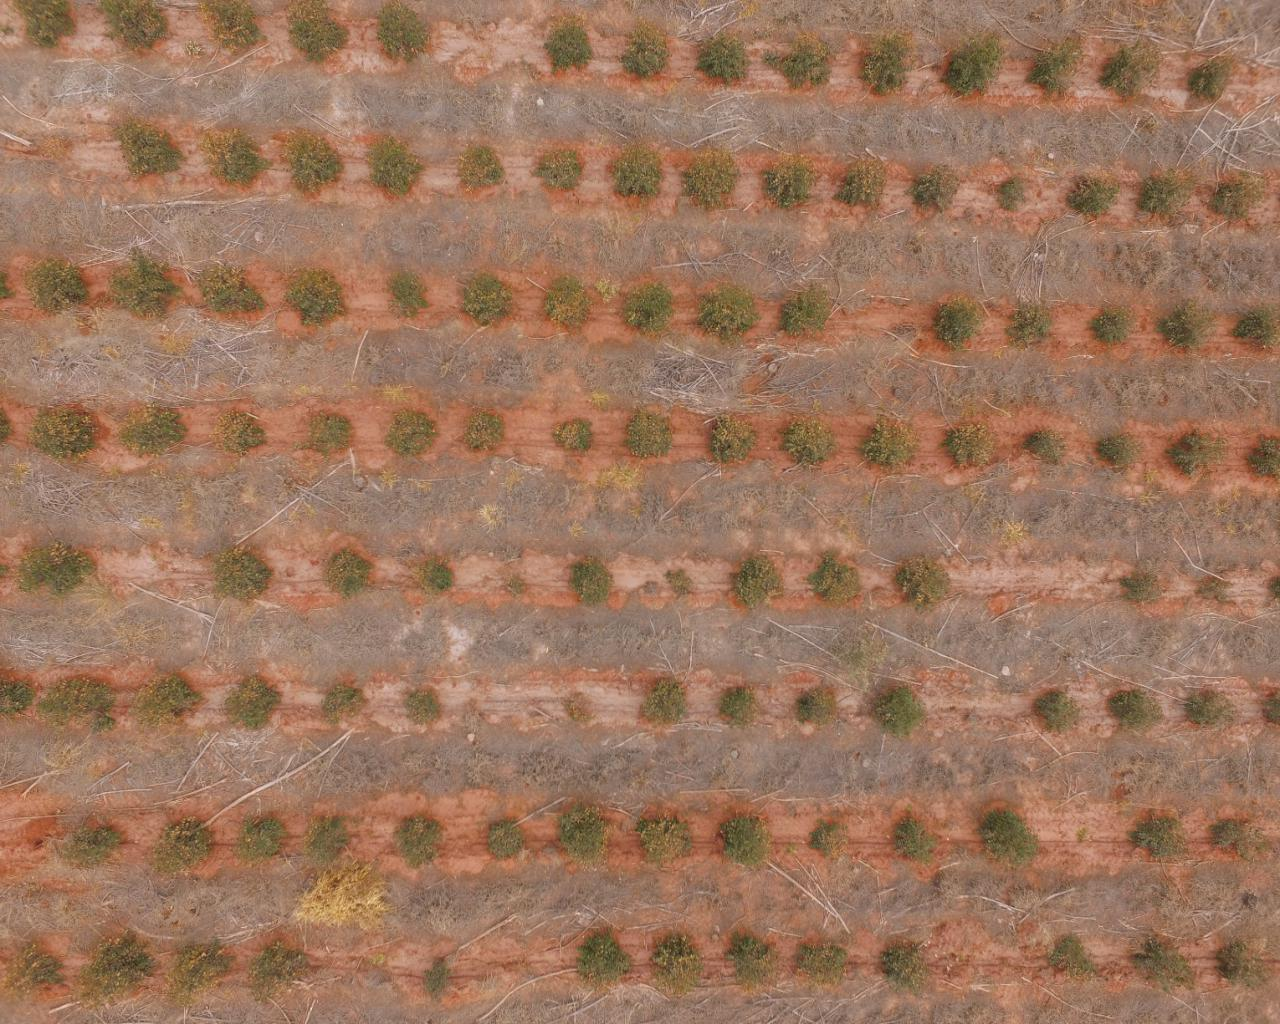Tree: (552, 802, 614, 874), (80, 940, 153, 997), (109, 257, 176, 318), (119, 118, 179, 177), (1108, 33, 1158, 101), (292, 1, 346, 63), (1135, 939, 1197, 993), (150, 817, 215, 868), (541, 13, 594, 75), (767, 37, 828, 90), (631, 815, 698, 862), (378, 2, 433, 60), (232, 815, 292, 866), (1, 944, 60, 995), (392, 813, 446, 867), (167, 942, 216, 1001), (721, 813, 774, 866), (249, 942, 302, 996), (106, 1, 168, 46), (202, 2, 260, 49), (64, 825, 124, 869), (37, 408, 94, 453), (729, 936, 779, 988), (567, 550, 611, 607), (1191, 46, 1233, 104), (20, 1, 75, 45), (197, 270, 257, 310), (655, 946, 703, 996), (980, 817, 1035, 859), (207, 139, 261, 181), (1033, 42, 1075, 96), (1140, 173, 1189, 219), (325, 541, 371, 590), (628, 26, 668, 83), (698, 33, 744, 82), (304, 814, 347, 865), (869, 39, 910, 92), (688, 159, 737, 203), (955, 41, 997, 92), (1220, 946, 1266, 992), (843, 158, 884, 209), (126, 412, 179, 451), (582, 935, 627, 981), (884, 946, 927, 994), (770, 162, 815, 207), (913, 163, 957, 209), (901, 559, 945, 605), (1051, 935, 1097, 979), (707, 290, 754, 333), (611, 154, 660, 194), (290, 142, 338, 184), (1169, 434, 1216, 475), (222, 550, 263, 597), (798, 942, 846, 983), (386, 412, 434, 451), (1112, 693, 1165, 728), (1072, 174, 1115, 217), (463, 278, 507, 320), (890, 819, 935, 860), (732, 560, 784, 596), (814, 558, 857, 600), (1134, 820, 1188, 853), (485, 817, 527, 859), (233, 675, 271, 721), (371, 143, 411, 186), (295, 276, 338, 316), (1210, 185, 1255, 222), (875, 691, 921, 726), (25, 556, 80, 585), (462, 145, 502, 186), (808, 818, 848, 858), (387, 273, 426, 312), (1167, 306, 1206, 347), (1248, 434, 1280, 482), (1089, 306, 1134, 341), (464, 414, 506, 450), (30, 271, 74, 305), (630, 413, 668, 452), (647, 684, 688, 721), (217, 415, 259, 450), (49, 686, 95, 718), (1239, 304, 1275, 344), (630, 290, 670, 326), (308, 417, 350, 450), (868, 427, 909, 461), (1025, 432, 1068, 462), (544, 148, 579, 186), (784, 294, 821, 328), (716, 419, 750, 457), (788, 424, 827, 458), (551, 285, 582, 326), (326, 684, 368, 715), (952, 429, 992, 461), (718, 689, 758, 720), (424, 952, 448, 1003), (556, 419, 591, 453), (940, 304, 973, 342), (1010, 307, 1050, 338), (1215, 819, 1255, 850), (146, 688, 192, 714), (1100, 435, 1141, 464), (1194, 693, 1227, 728), (1040, 695, 1072, 726), (796, 691, 830, 721), (408, 691, 434, 726), (1124, 577, 1158, 602), (424, 563, 452, 591), (1, 684, 28, 711), (999, 178, 1022, 208), (567, 701, 597, 722), (1201, 580, 1228, 601), (668, 574, 692, 592), (1266, 694, 1279, 726), (513, 578, 526, 597), (1271, 580, 1279, 599)
Wood: (130, 329, 257, 399), (125, 579, 214, 626), (232, 496, 303, 549), (171, 729, 223, 794), (155, 775, 233, 807), (645, 255, 749, 272), (82, 761, 132, 793), (1, 770, 63, 796), (346, 329, 373, 381), (78, 788, 153, 798)
